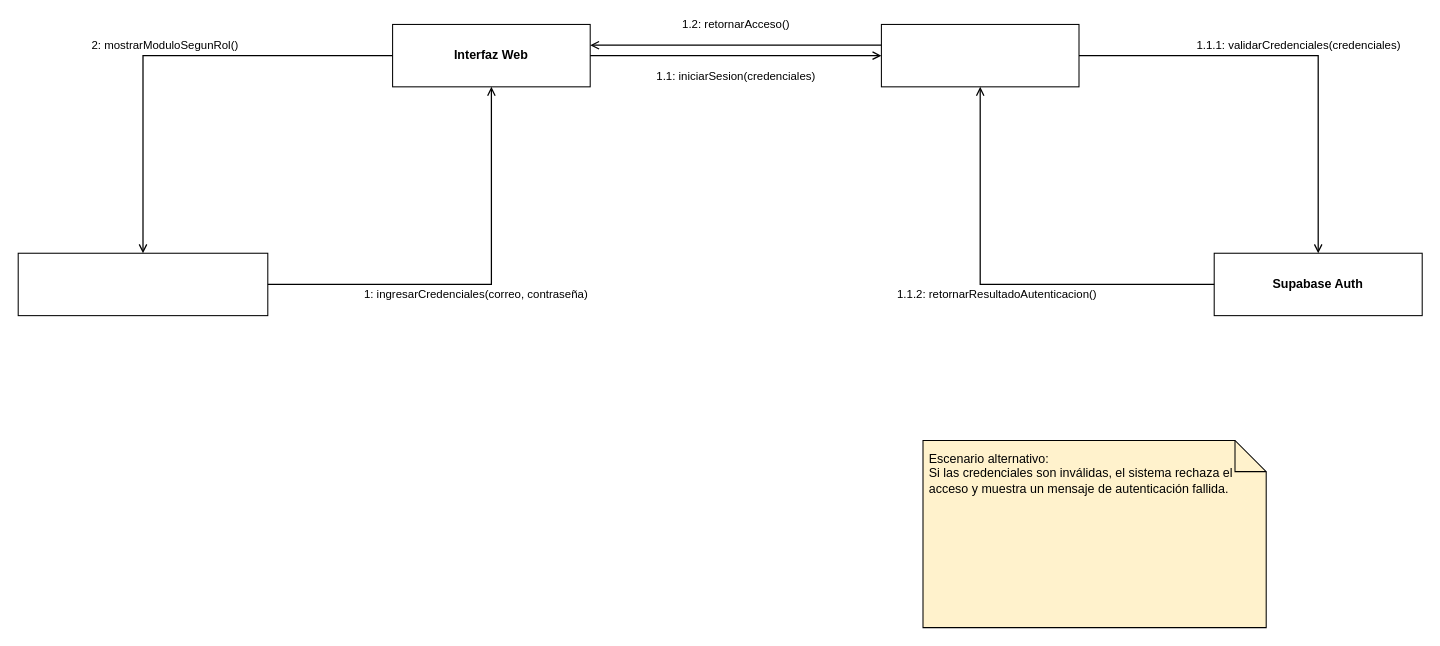
The diagram is 1440 pixels wide and 646 high, and some of its shapes have lost their labels. Each missing label, with the centre of its shape:
AuthController: [979,55]
Conductor / Administrador: [142,284]
